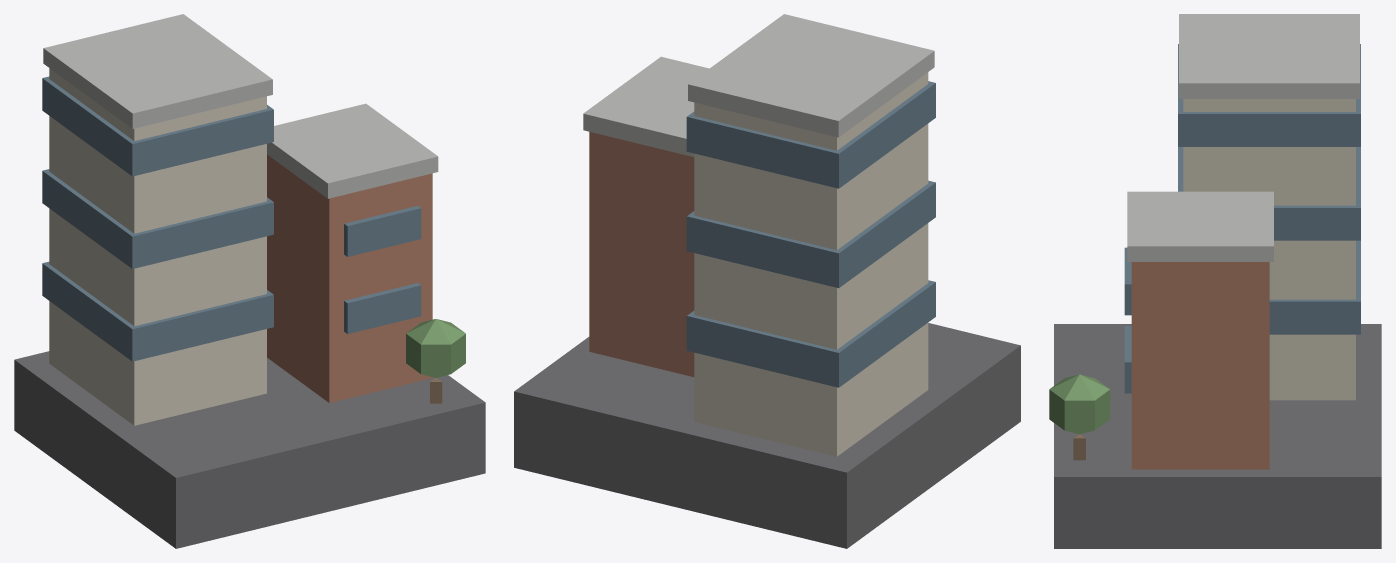
File: house-modern-2.glb
3 views of the same model, side by side, from view 1: azimuth 30°, elevation 25°; view 2: azimuth 150°, elevation 25°; view 3: azimuth 270°, elevation 25° (orthographic). The views are drawn at different scales.
Visible parts, largest first — view 1: LOD0; view 2: LOD0; view 3: LOD0.
Boxes of the visible parts, x1,y1,x2,y2 form: LOD0: (14, 14, 485, 548); LOD0: (514, 14, 1020, 548); LOD0: (1049, 14, 1381, 548).
Size of what is drawn, in the model's own units: 0.21 by 0.25 by 0.1927.
